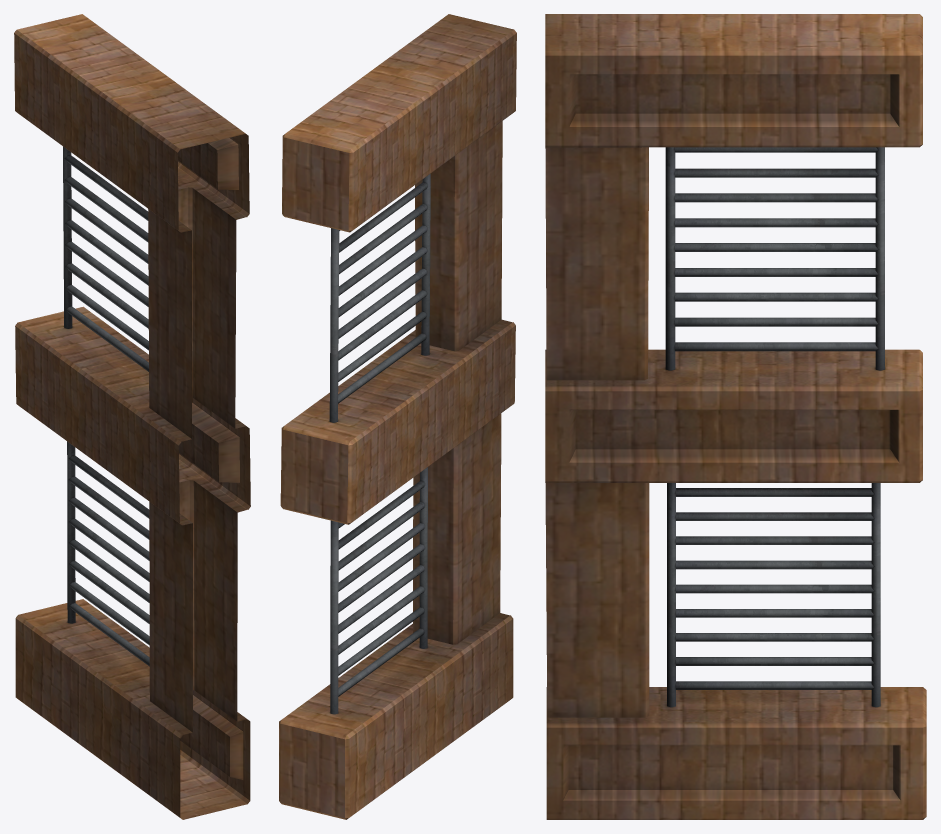
Rendered from wall01.fbx.
3 renders of one model, left to right at view 1: azimuth 30°, elevation 25°; view 2: azimuth 150°, elevation 25°; view 3: azimuth 270°, elevation 25°, orthographic. The views are drawn at different scales.
Visible parts, largest first — view 1: wall01; view 2: wall01; view 3: wall01.
Part boxes in pixels (x1,y1,x2,y2): wall01: (14, 14, 250, 819); wall01: (279, 14, 516, 819); wall01: (545, 14, 926, 819).
Bounding box in the file's own units: 102 × 893 × 402.
